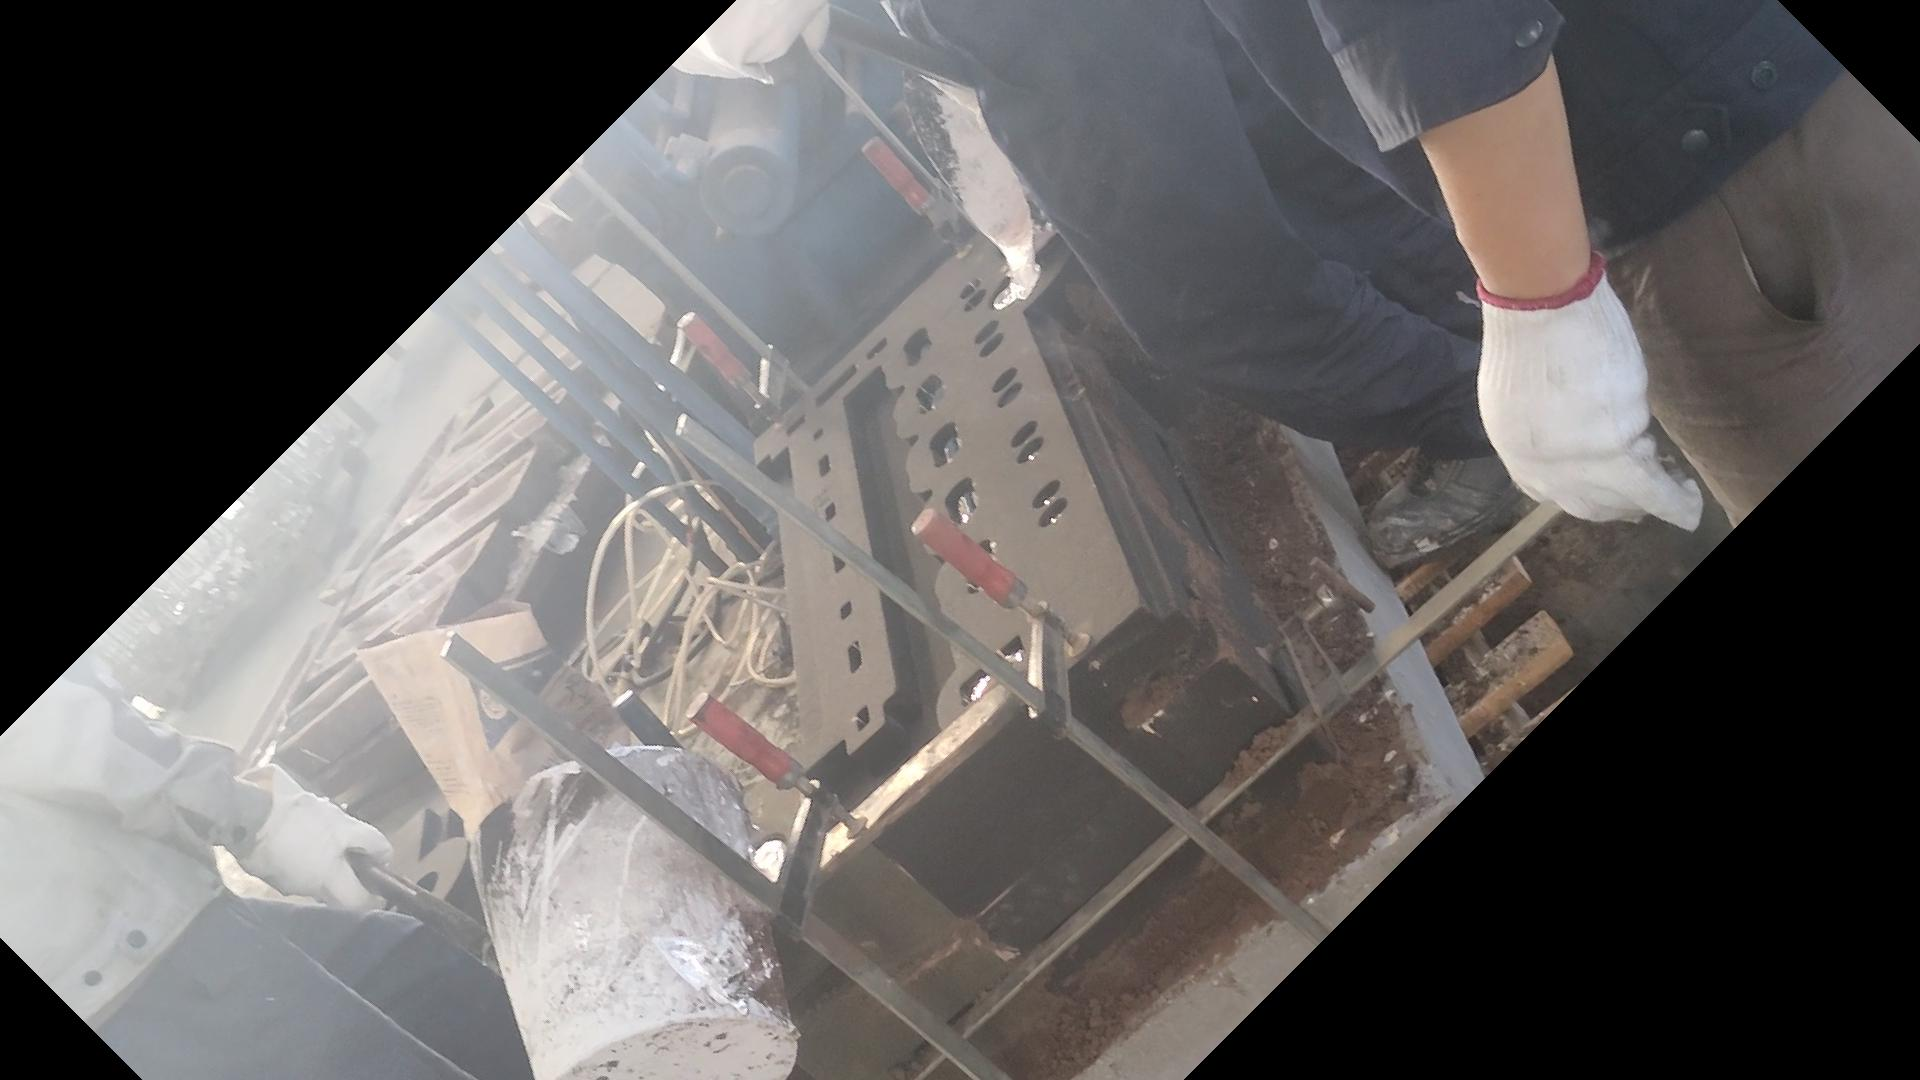pouring hole: (733, 835, 787, 891), (384, 872, 440, 920), (992, 265, 1033, 311)
